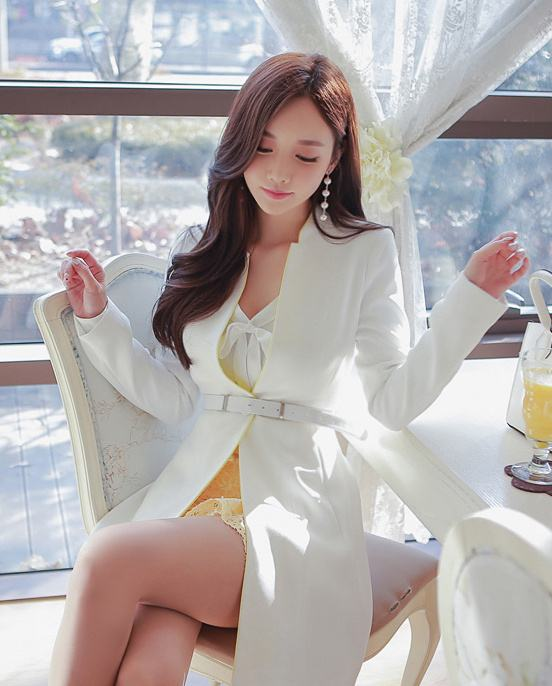person: (49, 50, 552, 669)
